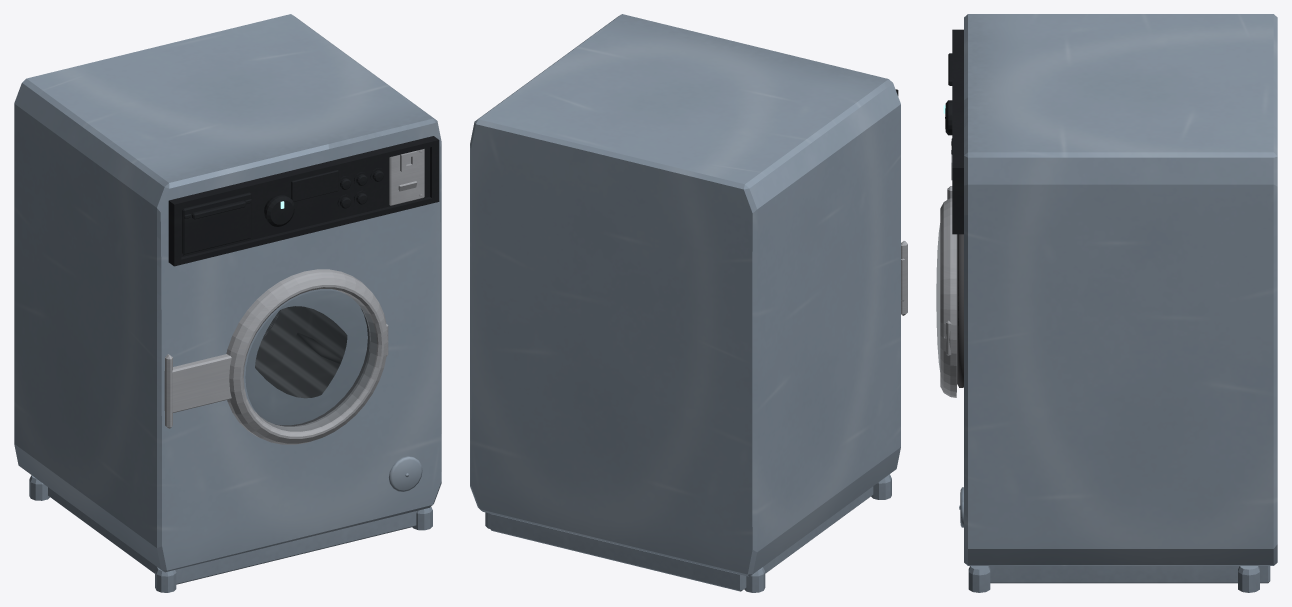
File: ApplianceHD.fbx
The picture shows the model from 3 angles, left to right: view 1: azimuth 30°, elevation 25°; view 2: azimuth 150°, elevation 25°; view 3: azimuth 270°, elevation 25°; orthographic projection. The views are drawn at different scales.
Visible parts, largest first — view 1: Cabinet, ControlPanel, DoorGlass, DoorRing, Drum, CoinSlot; view 2: Cabinet; view 3: Cabinet, DoorRing, ControlPanel, Gasket, DoorGlass.
Boxes of the visible parts, x1=… form: Cabinet: x1=14, y1=14, x2=441, y2=592; ControlPanel: x1=168, y1=136, x2=439, y2=266; DoorGlass: x1=245, y1=291, x2=376, y2=431; DoorRing: x1=164, y1=269, x2=388, y2=444; Drum: x1=255, y1=306, x2=347, y2=398; CoinSlot: x1=389, y1=149, x2=424, y2=205; Cabinet: x1=470, y1=14, x2=900, y2=592; Cabinet: x1=959, y1=14, x2=1277, y2=592; DoorRing: x1=940, y1=186, x2=957, y2=397; ControlPanel: x1=943, y1=29, x2=963, y2=234; Gasket: x1=957, y1=234, x2=963, y2=387; DoorGlass: x1=936, y1=223, x2=940, y2=371.
Bounding box in the file's own units: 0.8 × 1.1 × 0.775.
Materials: 5 (3 with a texture image).
